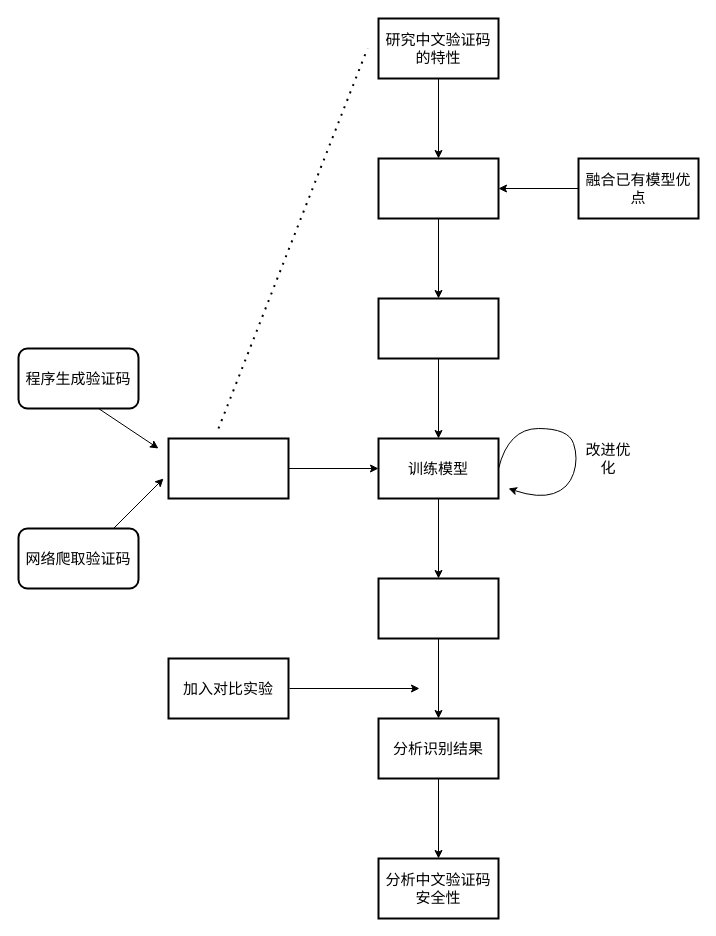
Some shapes in this 716 by 936 pixel diagram are drawn without their labels. Here are the shapes that lost their labels. From the top down, the centre of each, then its label:
(438,188): 构建模型
(438,328): 将模型编写成代码
(228,468): 制作中文验证码数据集
(438,608): 中文验证码识别
